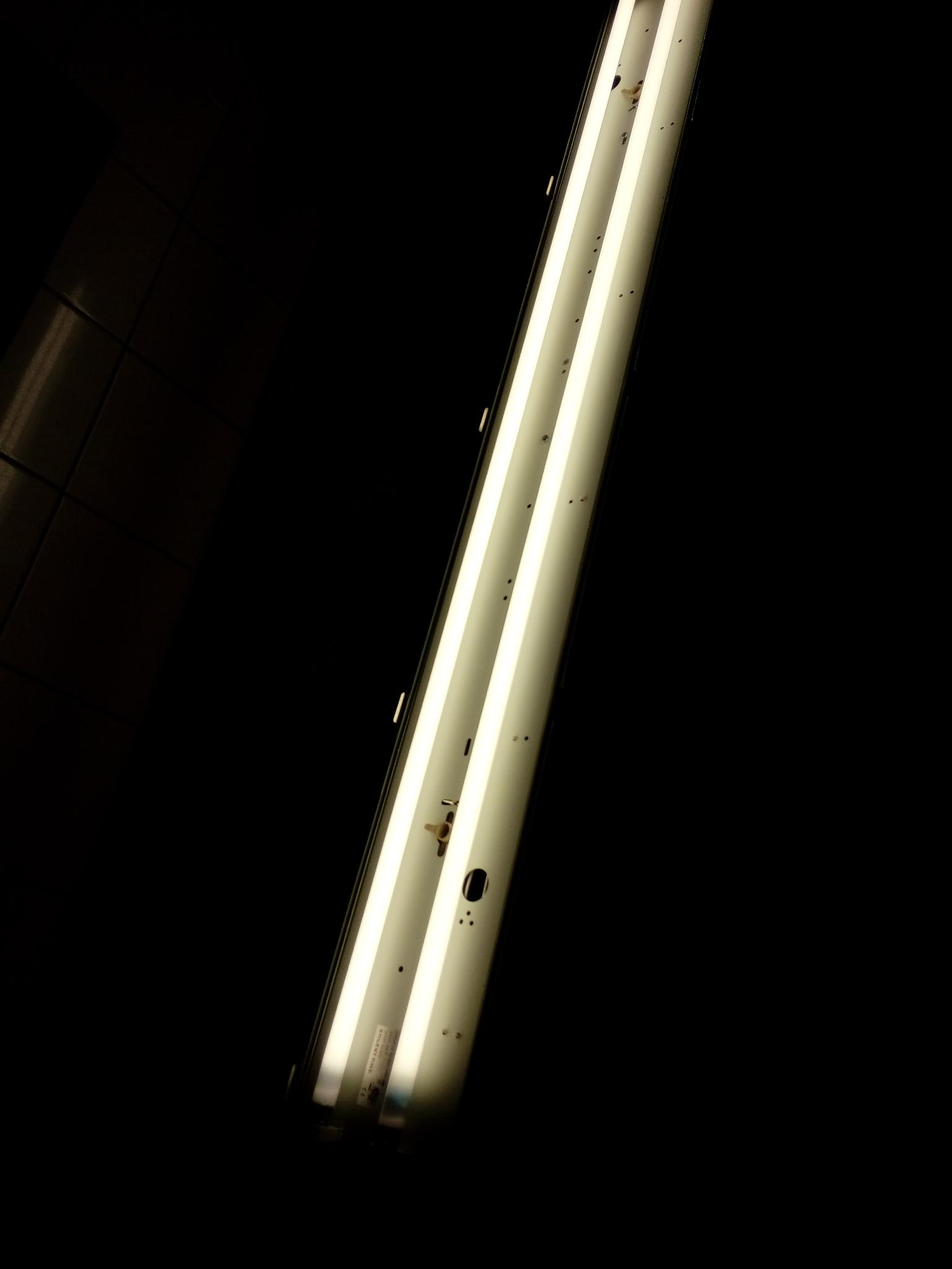light: (286, 0, 710, 1149)
